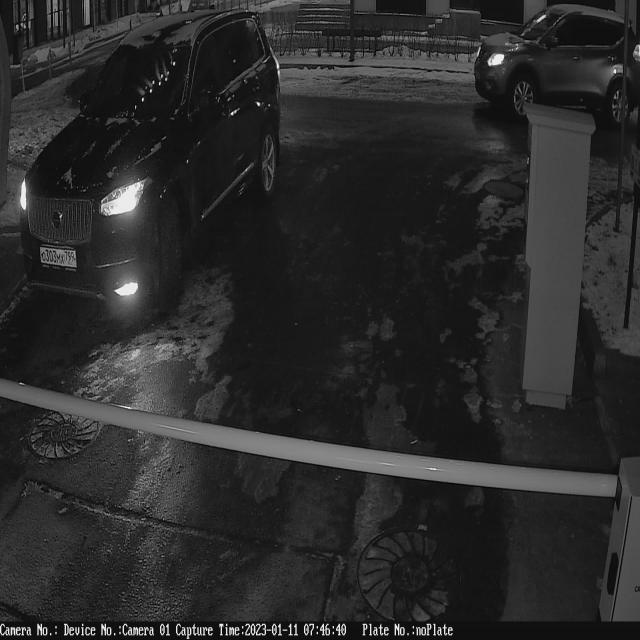car-plate-numbers: (36, 243, 81, 275)
